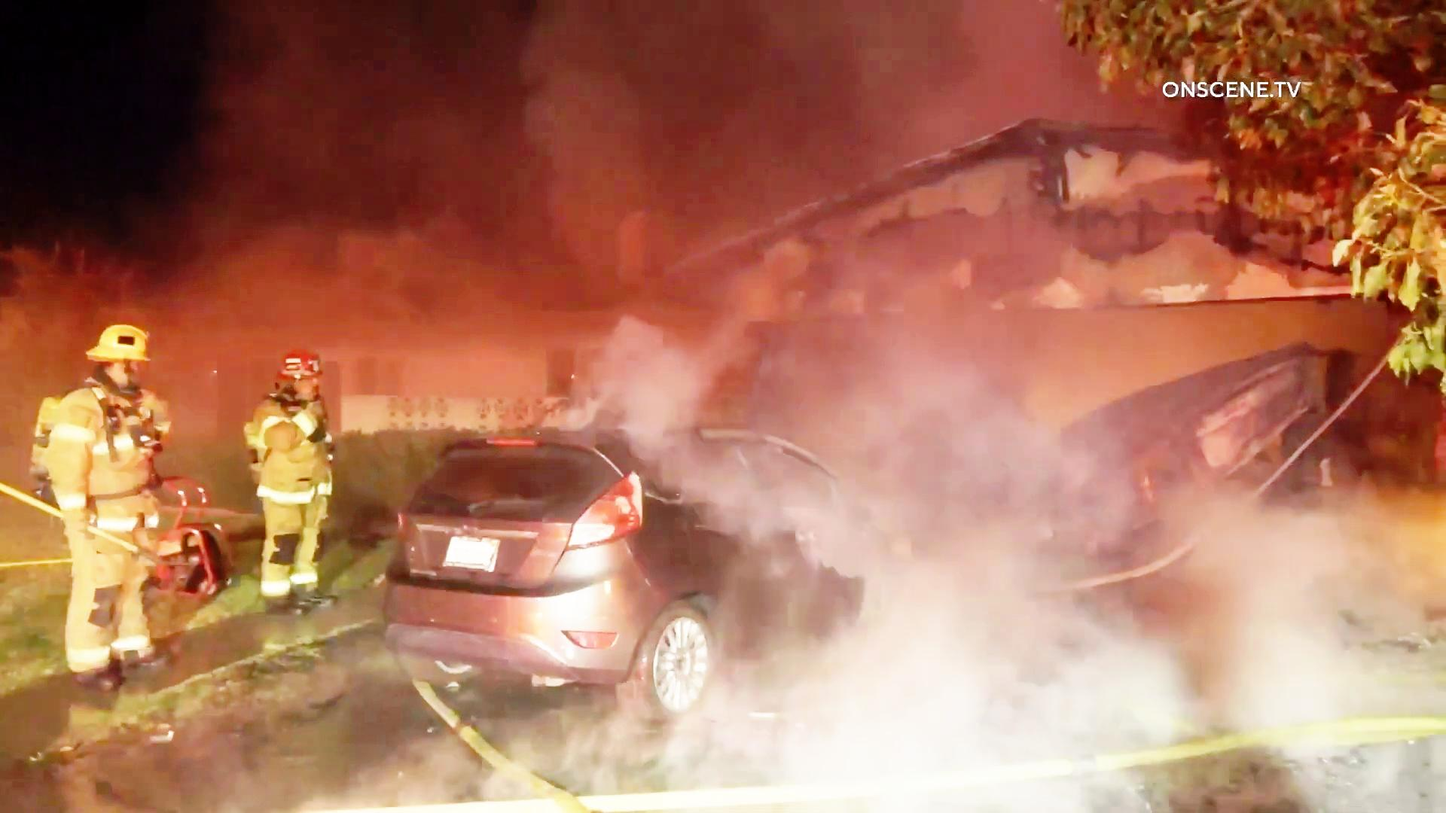smoke: (15, 2, 816, 205), (885, 544, 1105, 765)
